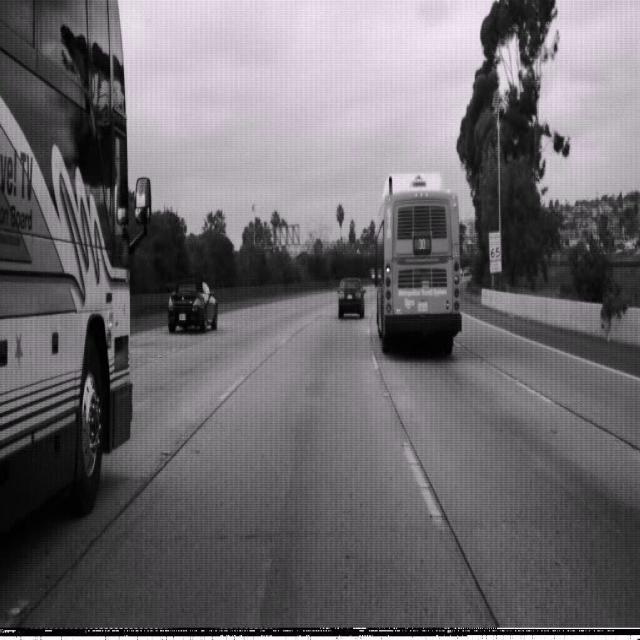speedLimit65: (488, 230, 501, 262)
